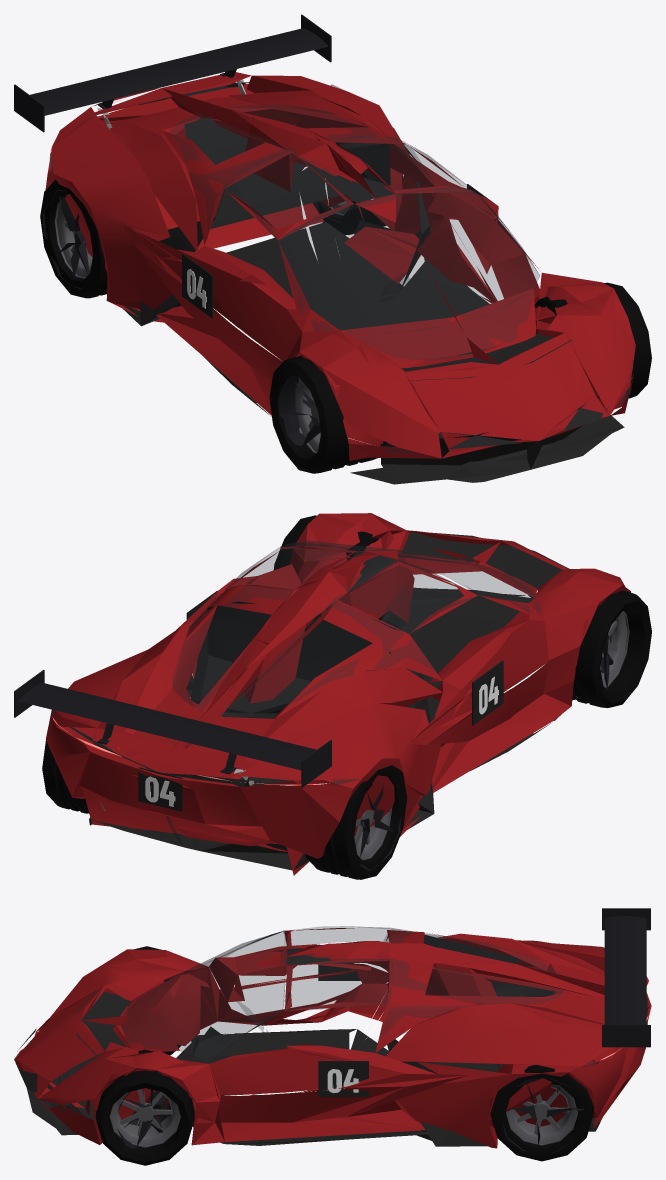
The model's file is vanta_lod2_meshopt_ktx2.glb.
3 renders of one model, top to bottom at view 1: azimuth 30°, elevation 25°; view 2: azimuth 150°, elevation 25°; view 3: azimuth 270°, elevation 25°, orthographic. The views are drawn at different scales.
Visible parts, largest first — view 1: Body, Wheel_FR, Wheel_RR, Wheel_FL, Wheel_RL; view 2: Body, Wheel_FR, Wheel_RR, Wheel_RL, Wheel_FL; view 3: Body, Wheel_FL, Wheel_RL.
Part boxes in pixels (<box>): Body: <box>14,14,635,484</box>; Wheel_FR: <box>269,355,387,473</box>; Wheel_RR: <box>40,179,107,298</box>; Wheel_FL: <box>534,282,651,398</box>; Wheel_RL: <box>317,174,403,235</box>; Body: <box>14,513,630,875</box>; Wheel_FR: <box>572,590,651,707</box>; Wheel_RR: <box>305,765,407,879</box>; Wheel_RL: <box>42,740,89,813</box>; Wheel_FL: <box>273,515,388,630</box>; Body: <box>14,908,651,1153</box>; Wheel_FL: <box>95,1049,194,1165</box>; Wheel_RL: <box>490,1065,593,1161</box>.
Bounding box in the file's own units: 2.25 × 1.25 × 4.55.
6 materials, 1 textured.
